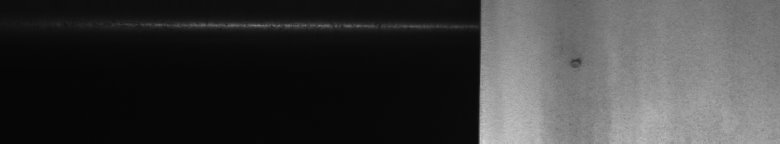fi: (568, 52, 588, 72)
